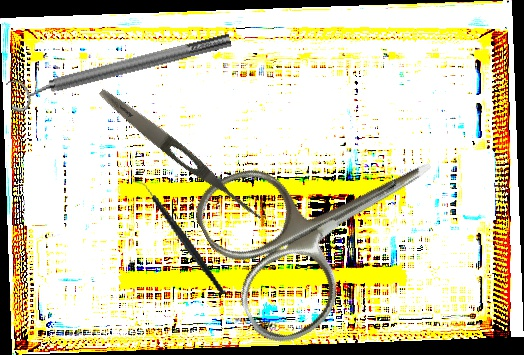Chopper: (131, 164, 227, 310)
Dressing Forceps: (94, 84, 268, 225)
Fixation Ring: (5, 23, 235, 115)
Iris Scissors: (185, 89, 473, 355)
